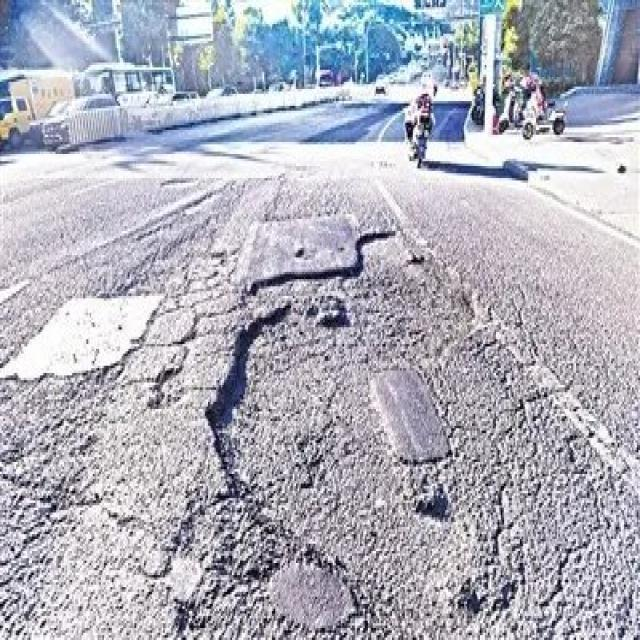pothole: (227, 226, 549, 623)
